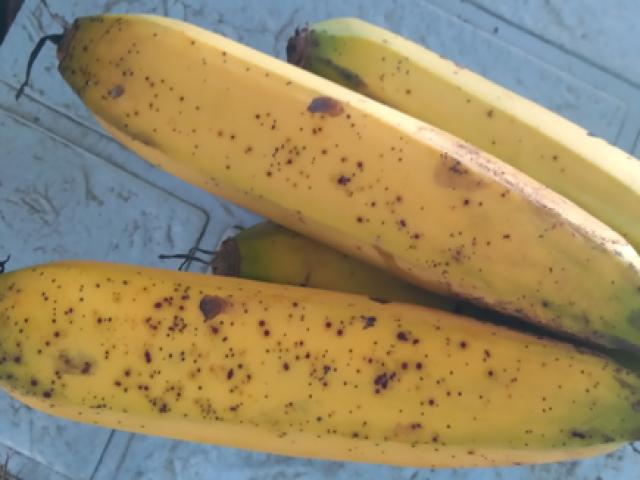ripe: (65, 8, 620, 307), (10, 249, 637, 479)
